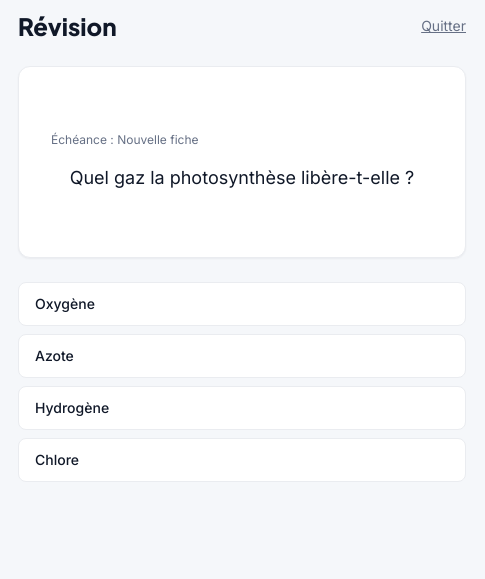
Scenario: ReviewScreen › mcq: the correct answer and the student's wrong pick are distinguished by icon and text, not colour alone (docs/UI.md's own rule)
Expected: the text "Quel gaz la photosynthèse libère-t-elle ?" is shown, [51, 164, 433, 192]
Click the button "Azote". click: (54, 356)
box: [18, 334, 466, 378]
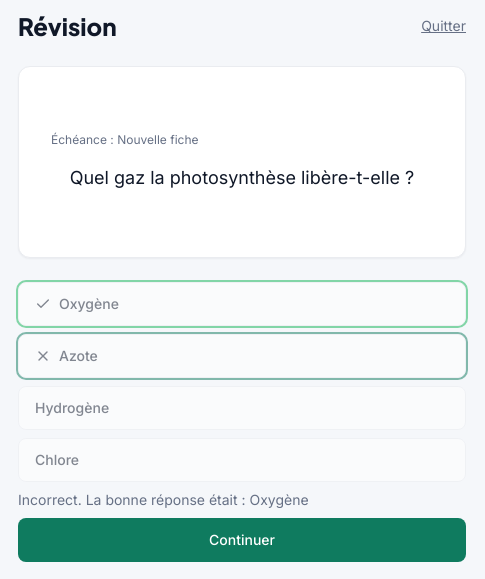
Result: the text "Incorrect. La bonne réponse était : Oxygène" is shown at [18, 491, 309, 508]
Result: the 1st icon is shown at [35, 296, 51, 312]
Result: the 2nd icon is shown at [35, 348, 51, 364]
